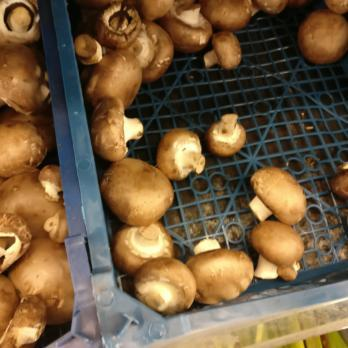Mushroom: (92, 101, 229, 309), (75, 1, 347, 96), (0, 3, 67, 348), (238, 156, 325, 279), (210, 101, 246, 163)
